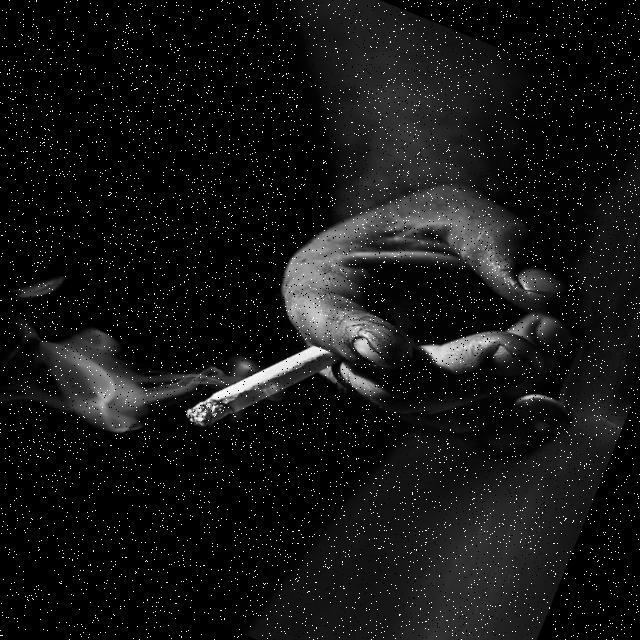cigarette: (170, 306, 345, 477)
